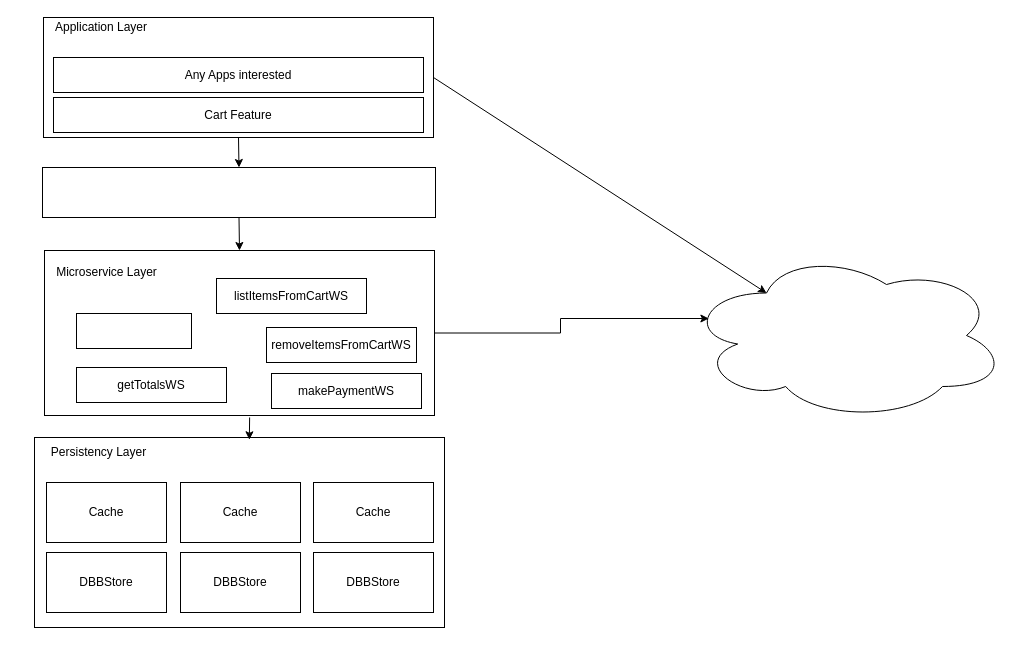
Image size: 1024x645. Some labels were removed from this diagram. Each missing label, with the centre of its shape:
addItemsToCartWS: point (134, 330)
External Systems: point (846, 335)
Request Caching: point (239, 192)
